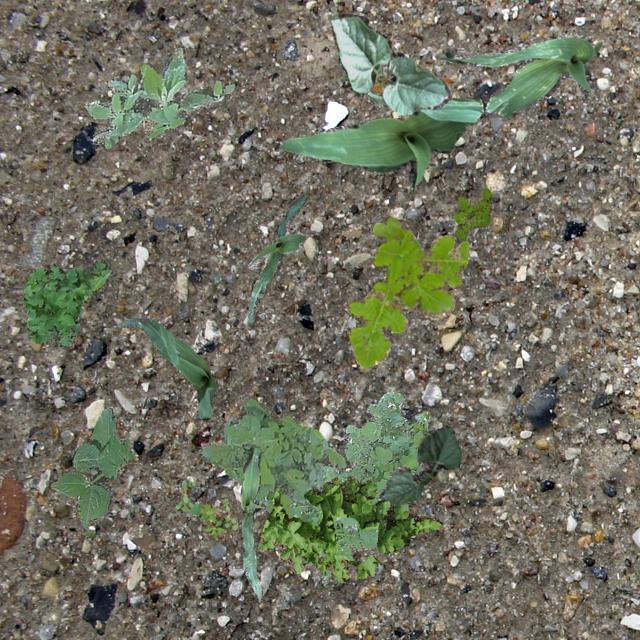crop: (278, 90, 486, 190), (440, 34, 600, 116), (330, 12, 450, 114), (117, 316, 216, 418), (247, 194, 306, 322), (376, 424, 461, 504), (240, 446, 262, 600)
weed: (292, 390, 428, 584), (198, 398, 358, 532), (256, 476, 442, 582), (347, 216, 468, 370), (82, 46, 234, 148), (50, 406, 134, 526), (20, 258, 109, 348), (174, 478, 238, 538), (450, 188, 490, 240)
